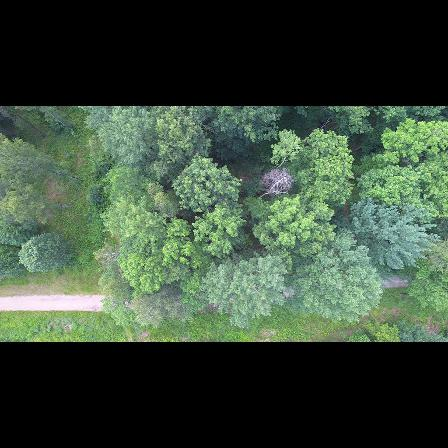Dead: (256, 165, 295, 202)
